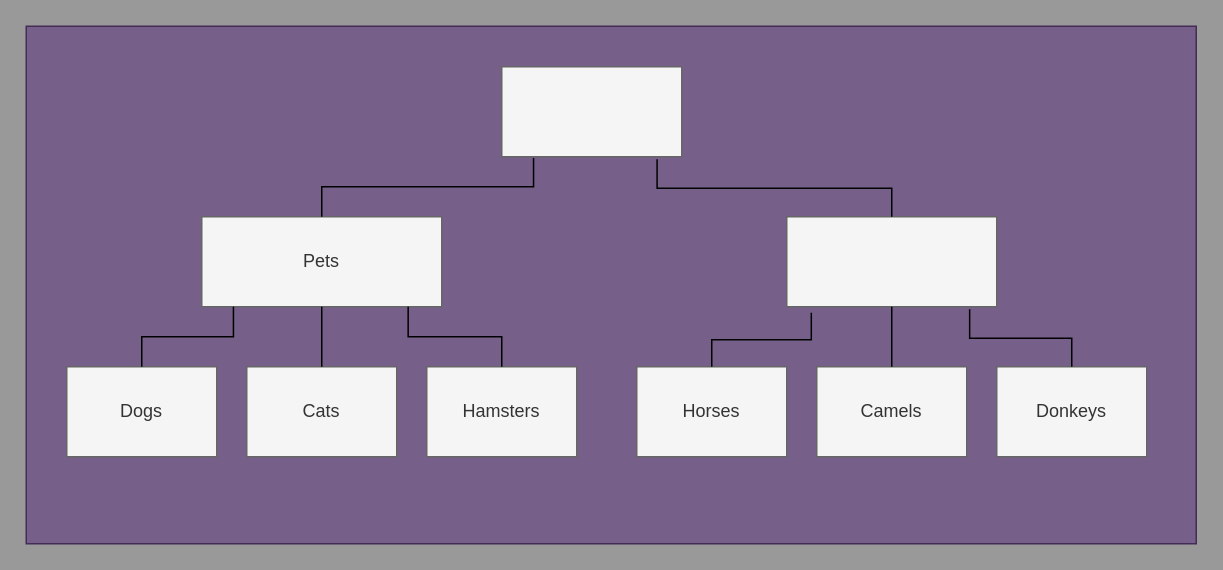
The diagram is 1223 pixels wide and 570 high, and some of its shapes have lost their labels. Here are the shapes that lost their labels. From the top down, the centre of each, then its label:
At (591,111): "Mans friends".
At (891,261): "Pack animals".
